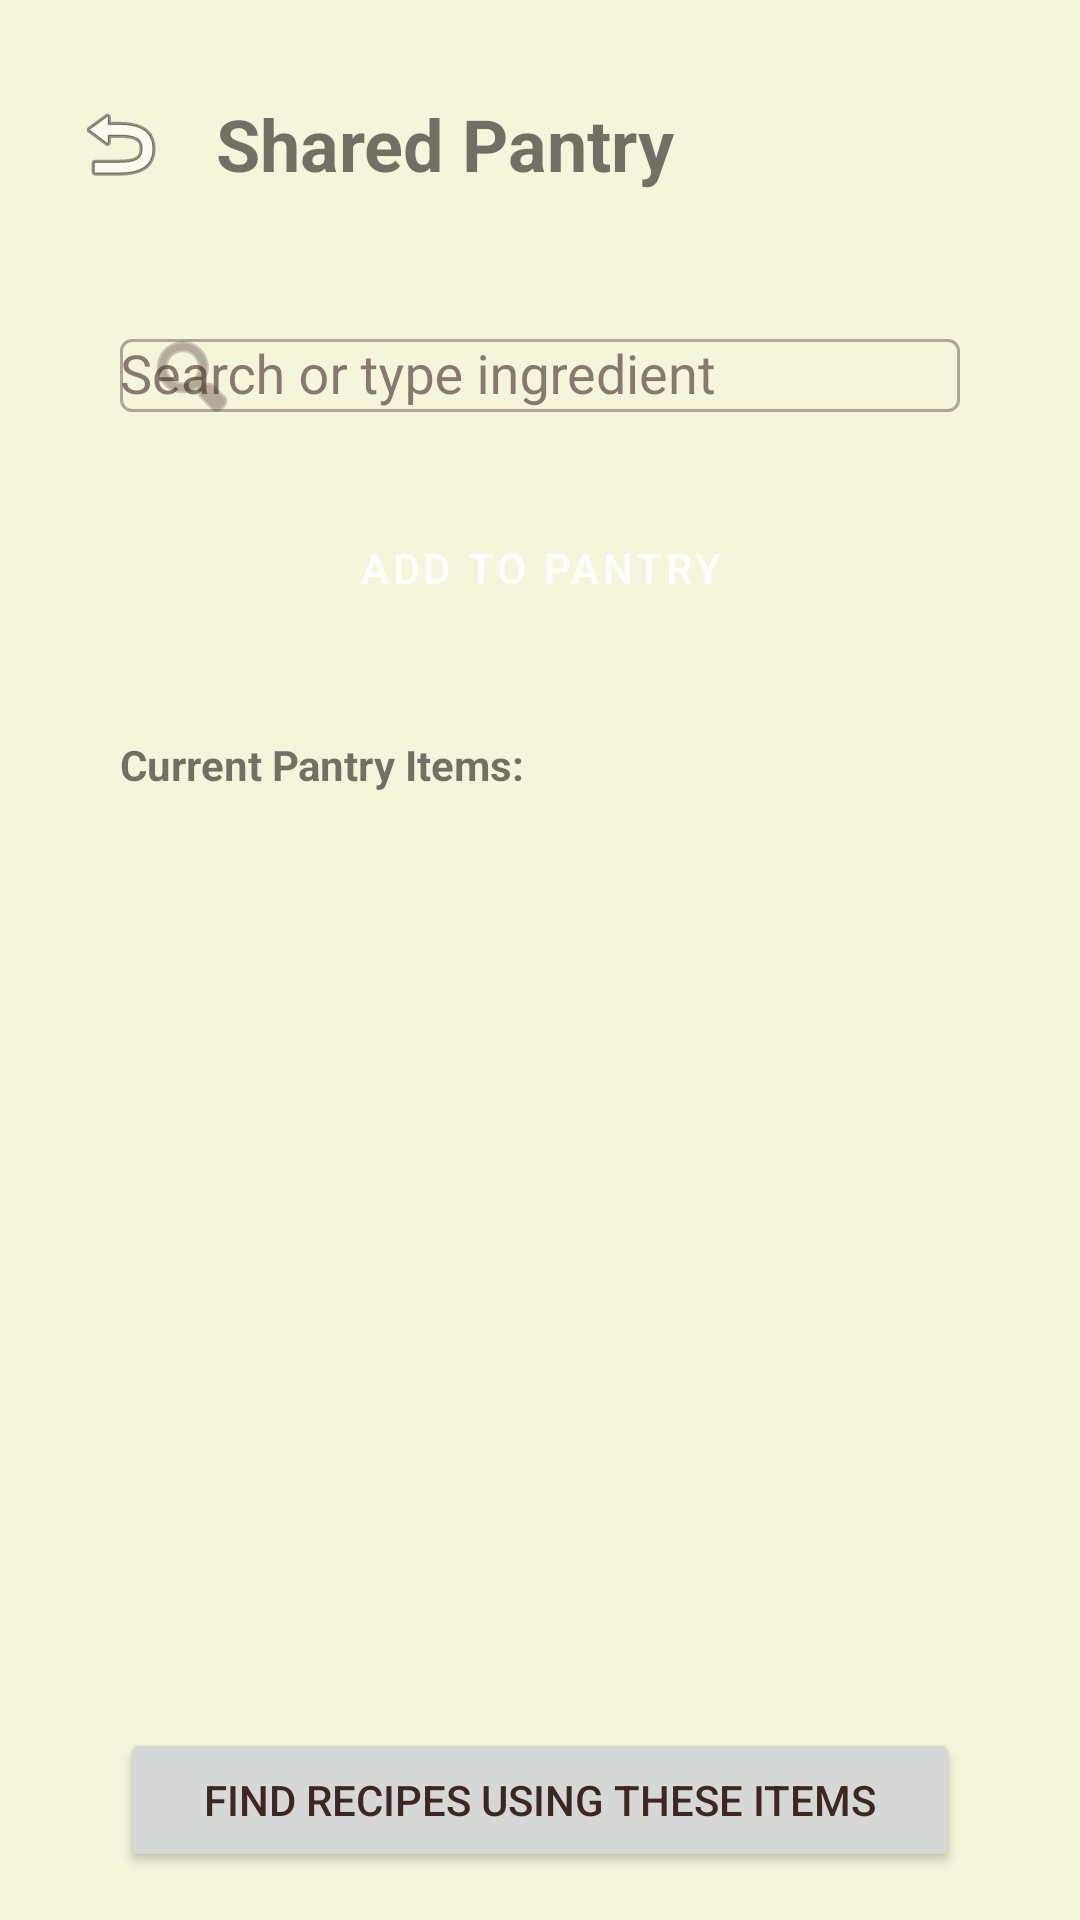

Named icons in this screenshot (1080 × 1920) and their centers, (x,y):
Back: (121,144)
